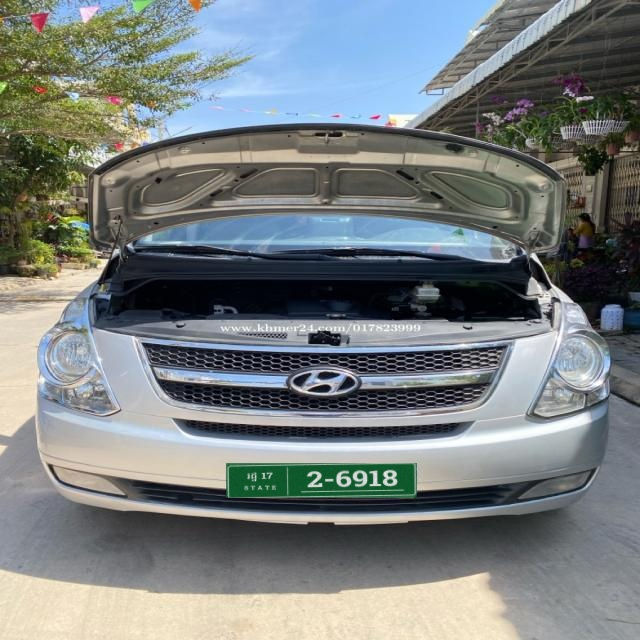Plate Number: (226, 464, 418, 498)
